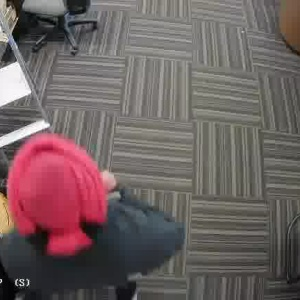person: (2, 134, 167, 298)
